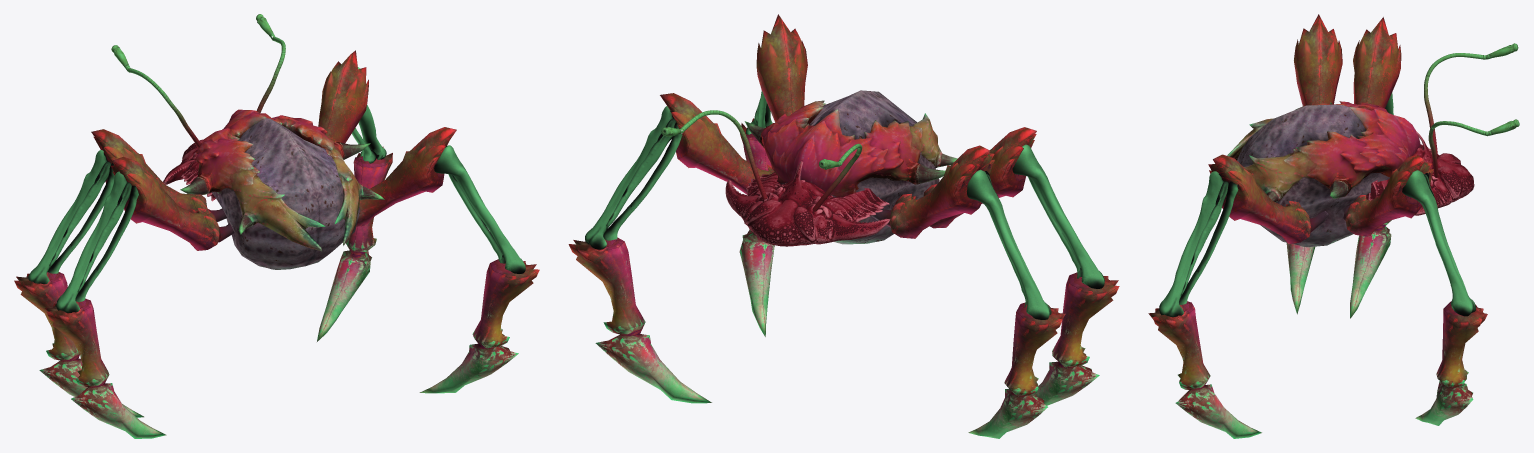
Rendered from queen_dragoon.glb.
The picture shows the model from 3 angles, left to right: view 1: azimuth 30°, elevation 25°; view 2: azimuth 150°, elevation 25°; view 3: azimuth 270°, elevation 25°; orthographic projection. The views are drawn at different scales.
Visible parts, largest first — view 1: body, R_Bleg03, L_Bleg03, L_Bleg01, R_Bleg01, R_Fleg03, L_Bleg02, L_Fleg02, R_Fleg01, L_Fleg03, R_Bleg02, L_Fleg01 (+2 smaller); view 2: body, head, R_Fleg03, L_Bleg03, L_Fleg03, L_Fleg01, R_Fleg01, R_Bleg01, R_Fleg02, L_Bleg02, R_Bleg03, L_Fleg02 (+1 smaller); view 3: body, R_Bleg03, R_Bleg01, R_Bleg02, R_Fleg03, L_Bleg01, L_Fleg01, R_Fleg01, R_Fleg02, head, L_Fleg03, L_Bleg03.
Boxes of the visible parts, x1,y1,x2,y2 form: body: (180,109,384,269); R_Bleg03: (419,259,539,393); L_Bleg03: (45,298,166,438); L_Bleg01: (111,156,234,250); R_Bleg01: (356,127,456,226); R_Fleg03: (317,146,392,341); L_Bleg02: (56,171,138,313); L_Fleg02: (28,150,114,284); R_Fleg01: (318,50,368,143); L_Fleg03: (14,272,143,417); R_Bleg02: (434,145,525,273); L_Fleg01: (91,129,226,222); body: (744,90,957,244); head: (725,161,890,246); R_Fleg03: (568,237,711,403); L_Bleg03: (1036,272,1119,405); L_Fleg03: (968,302,1065,438); L_Fleg01: (871,145,994,238); R_Fleg01: (660,93,774,194); R_Bleg01: (756,14,807,122); R_Fleg02: (585,106,682,249); L_Bleg02: (1012,144,1104,288); R_Bleg03: (739,118,774,336); L_Fleg02: (967,169,1051,319); body: (1227,101,1420,247); R_Bleg03: (1148,301,1261,438); R_Bleg01: (1208,154,1329,244); R_Bleg02: (1159,171,1238,317); R_Fleg03: (1415,301,1487,425); L_Bleg01: (1294,14,1342,106); L_Fleg01: (1353,17,1401,108); R_Fleg01: (1343,154,1433,236); R_Fleg02: (1402,170,1475,316); head: (1366,131,1474,215); L_Fleg03: (1350,220,1391,318); L_Bleg03: (1286,243,1315,314).
Bounding box in the file's own units: 308 × 207 × 231.
3 materials, 2 textured.
